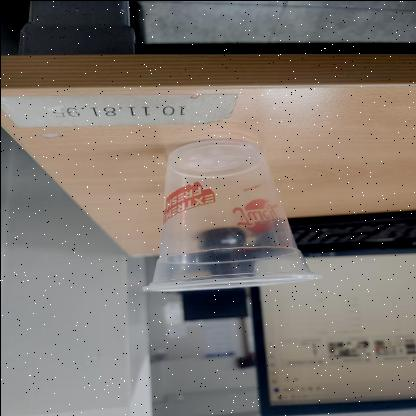Others: (138, 137, 320, 291)
